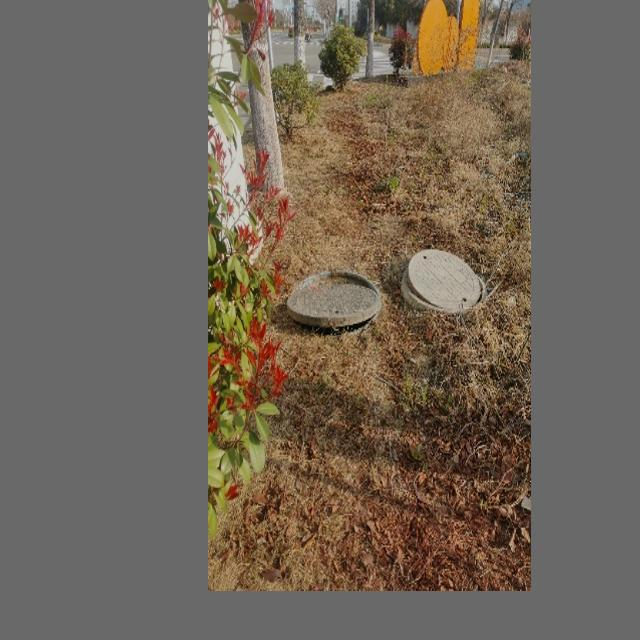uncovered: (287, 268, 383, 332), (401, 247, 487, 312)
